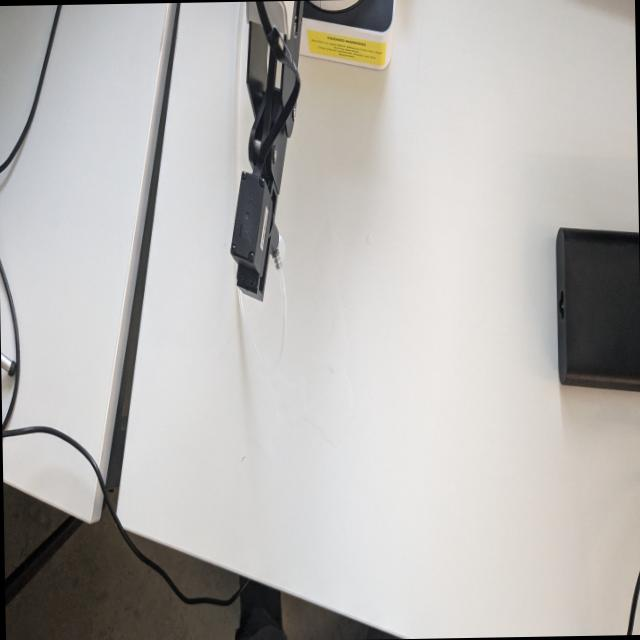Robot-end-effector-HF8z: (227, 166, 288, 309)
